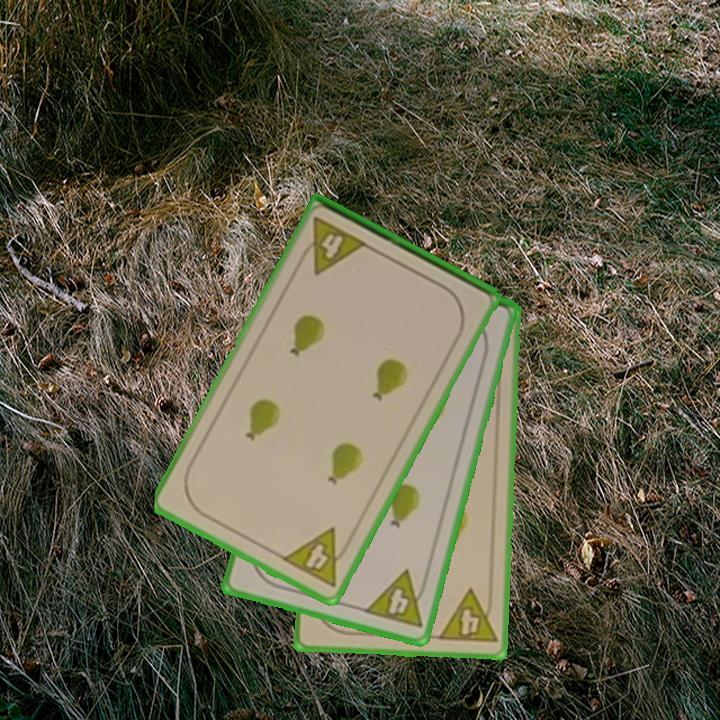4p: (278, 524, 356, 591), (294, 213, 370, 278), (360, 566, 432, 632), (434, 586, 500, 647)
